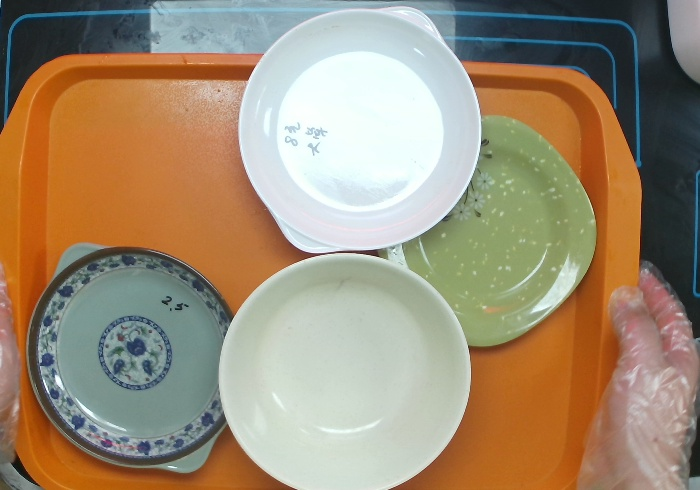NLDX-Bai_Se_Shuang_Er_Die: (229, 3, 487, 259)
NLDX-Bai_Se_Yuan_Wan: (211, 247, 475, 490)
NLDX-Lv_Hua_Fang_Die: (380, 107, 601, 351)
NLDX-Qing_Hua_Shuang_Er_Die: (23, 233, 233, 477)
